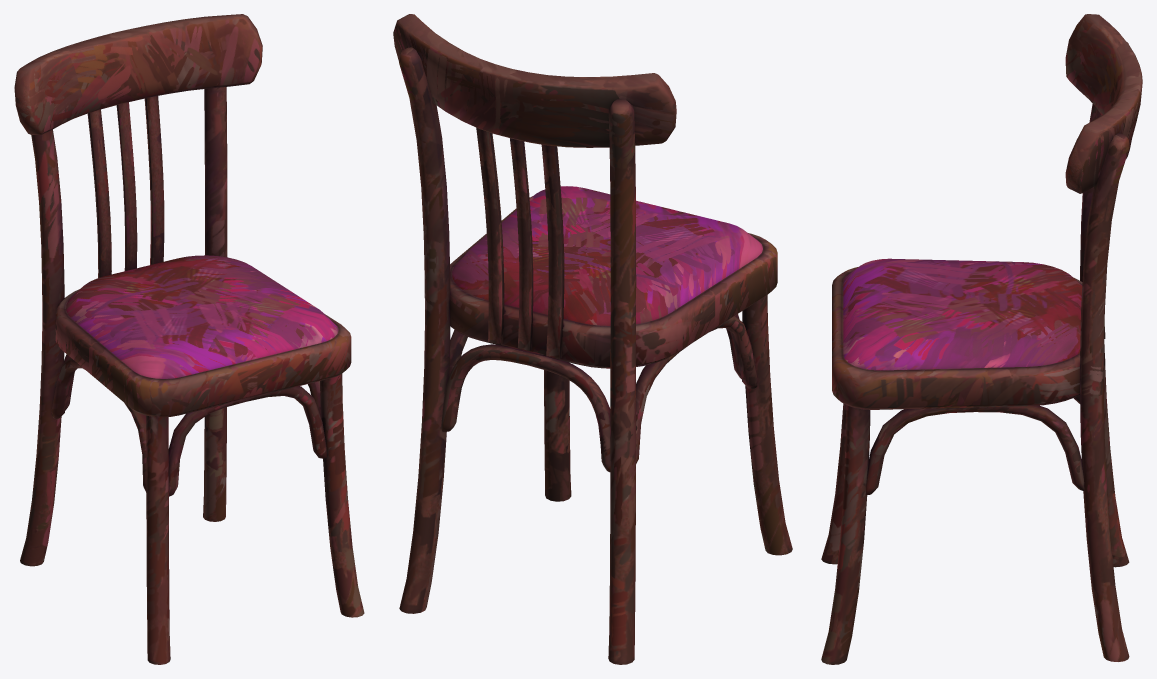
Rendered from decor_wooden_chair.fbx.
The picture shows the model from 3 angles, left to right: view 1: azimuth 30°, elevation 25°; view 2: azimuth 150°, elevation 25°; view 3: azimuth 270°, elevation 25°; orthographic projection. The views are drawn at different scales.
Parts seen in each view (by area): view 1: decor_chair_common, decor_chair_pillow, decor_chair_legs; view 2: decor_chair_common, decor_chair_legs, decor_chair_pillow; view 3: decor_chair_common, decor_chair_pillow, decor_chair_legs.
Boxes of the visible parts, x1,y1,x2,y2 form: decor_chair_common: (14, 14, 351, 496); decor_chair_pillow: (66, 255, 338, 378); decor_chair_legs: (20, 324, 364, 664); decor_chair_common: (393, 14, 777, 472); decor_chair_legs: (399, 295, 792, 664); decor_chair_pillow: (452, 186, 762, 325); decor_chair_common: (832, 14, 1142, 495); decor_chair_pillow: (843, 258, 1082, 370); decor_chair_legs: (821, 344, 1129, 664).
Size of the model in its own units: 0.4541 by 0.895 by 0.4825.
